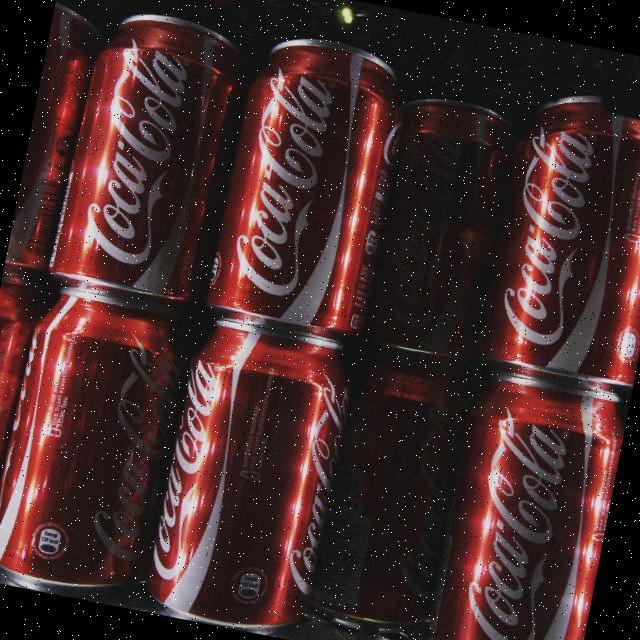coca-cola: (143, 314, 358, 640), (205, 27, 418, 345), (48, 5, 255, 311), (0, 285, 192, 608), (431, 368, 631, 640), (300, 358, 479, 640), (484, 83, 640, 391), (364, 95, 529, 365)
